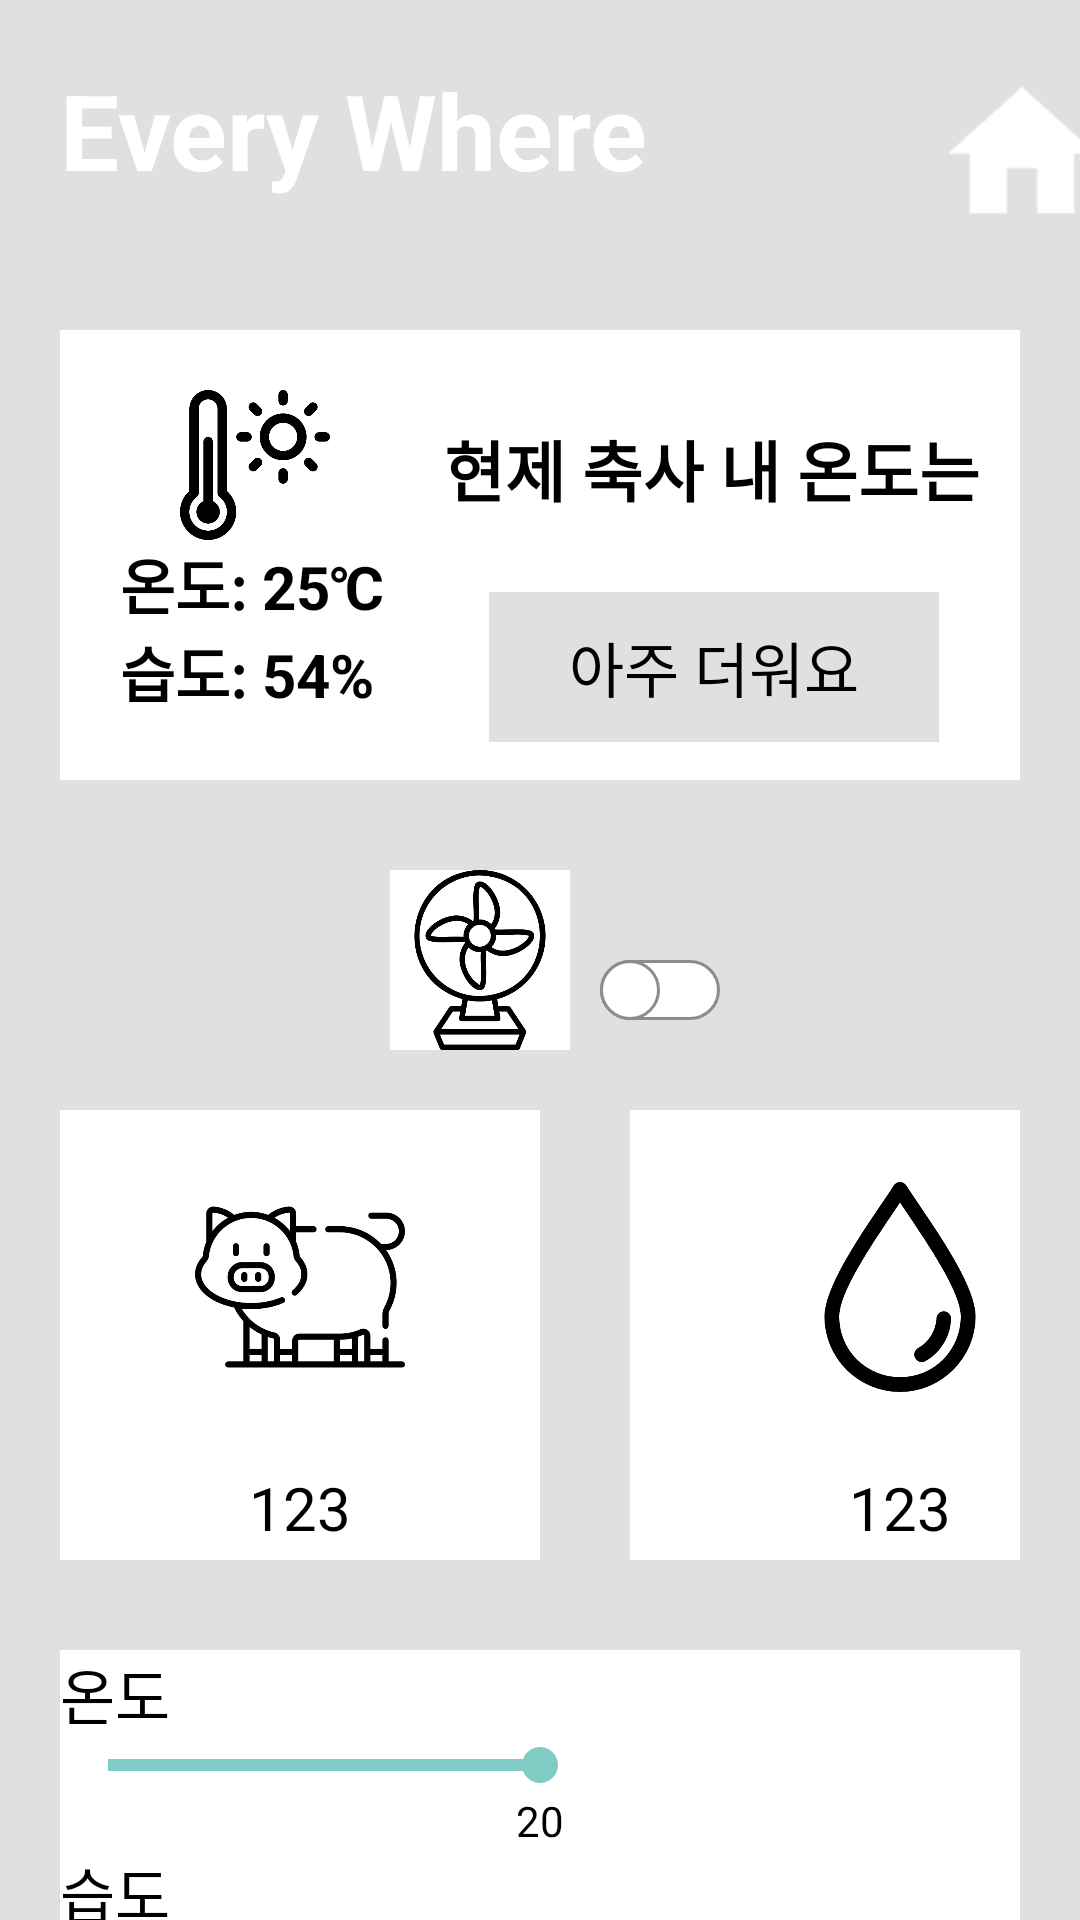

Screen size 1080w x 1920h. Icon name, then its center in pixels as [x,y]:
pig: [300,1287]
vent: [480,960]
water: [900,1287]
